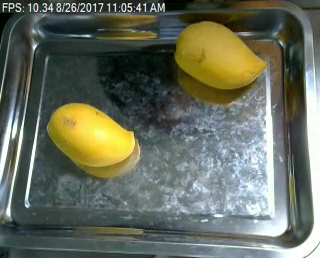Mango: (169, 20, 271, 93), (43, 100, 141, 166)
